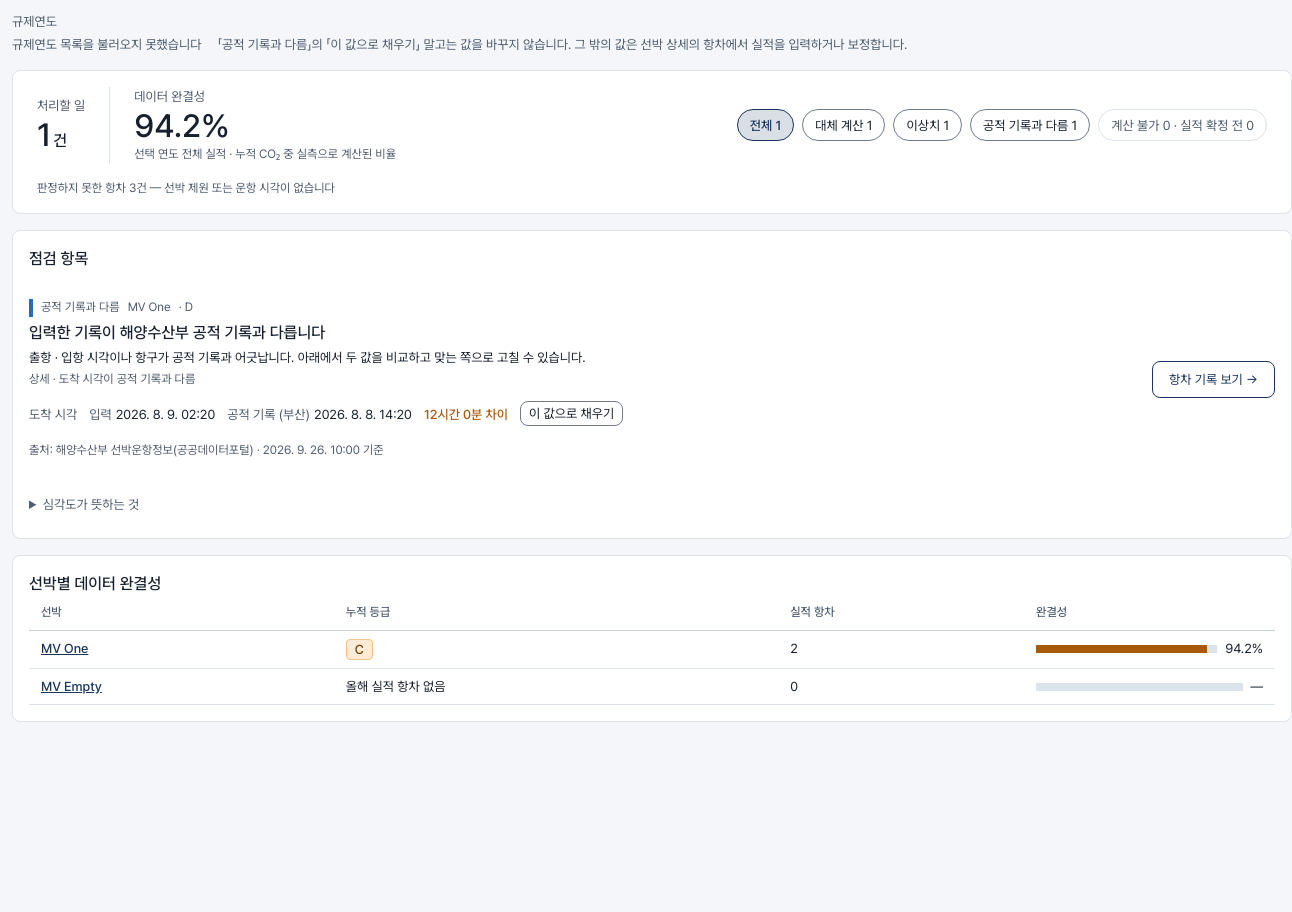
Scenario: 이 값으로 채우기 (#1923) › 확정 항차는 바로 보내지 않고 재확인 줄을 연다 — 그만두면 아무것도 보내지 않는다
This screenshot has width=1292, height=912.
Check: the heading "점검 항목" is shown, box x1=29 y1=249 x2=88 y2=268
Click the button "이 값으로 채우기": (572, 413) x1=520 y1=401 x2=623 y2=426
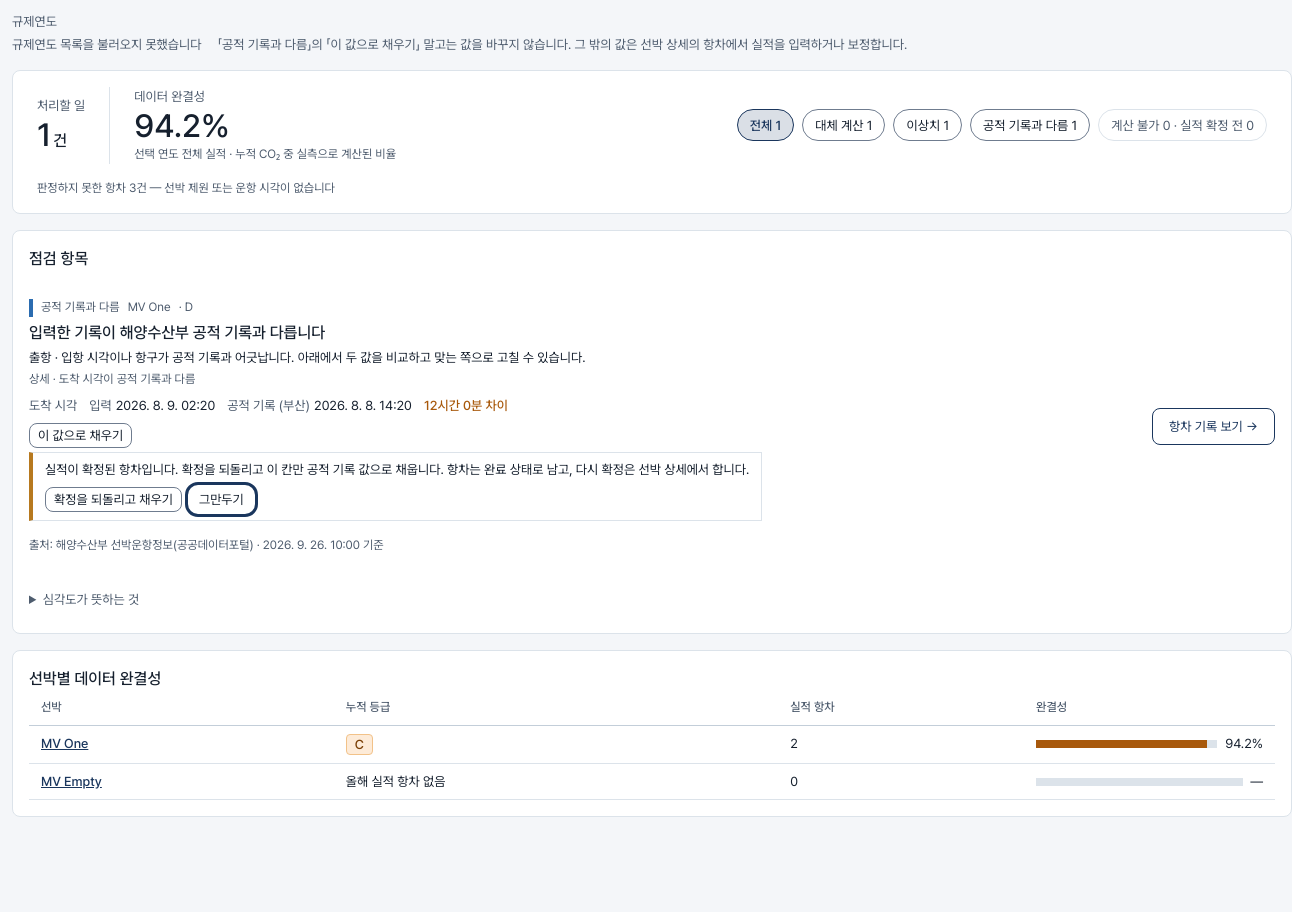
Click the button "그만두기": (221, 499) x1=190 y1=487 x2=253 y2=512
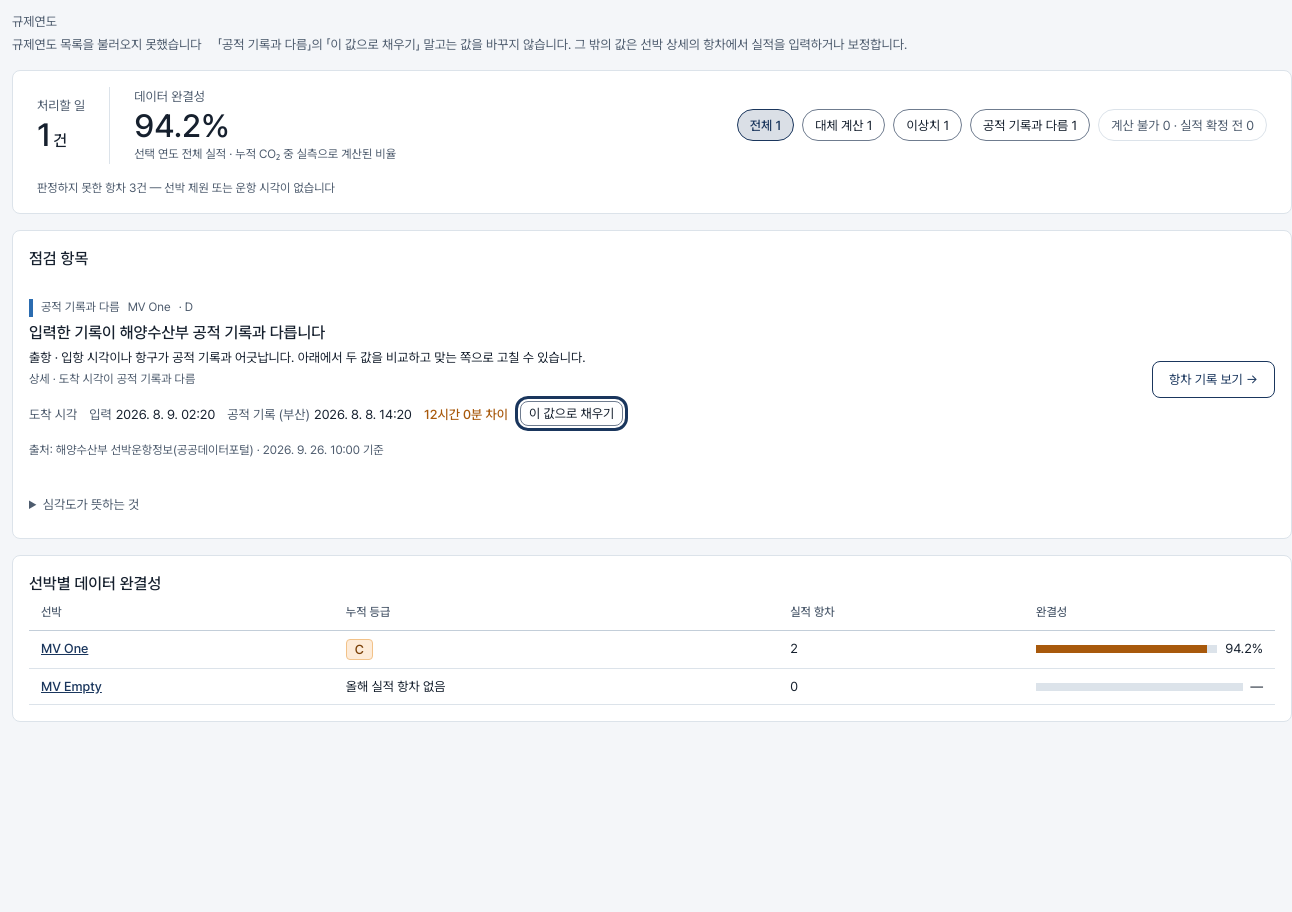
Check: the text "실적이 확정된 항차입니다. 확정을 되돌리고 이 칸만 공적 기록 값으로 채웁니다. 항차는 완료 상태로 남고, 다시 확정은 선박 상세에서 합니다." is gone
